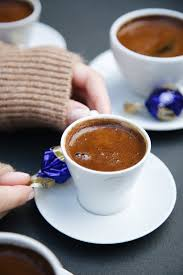kahve: (61, 114, 151, 217)
